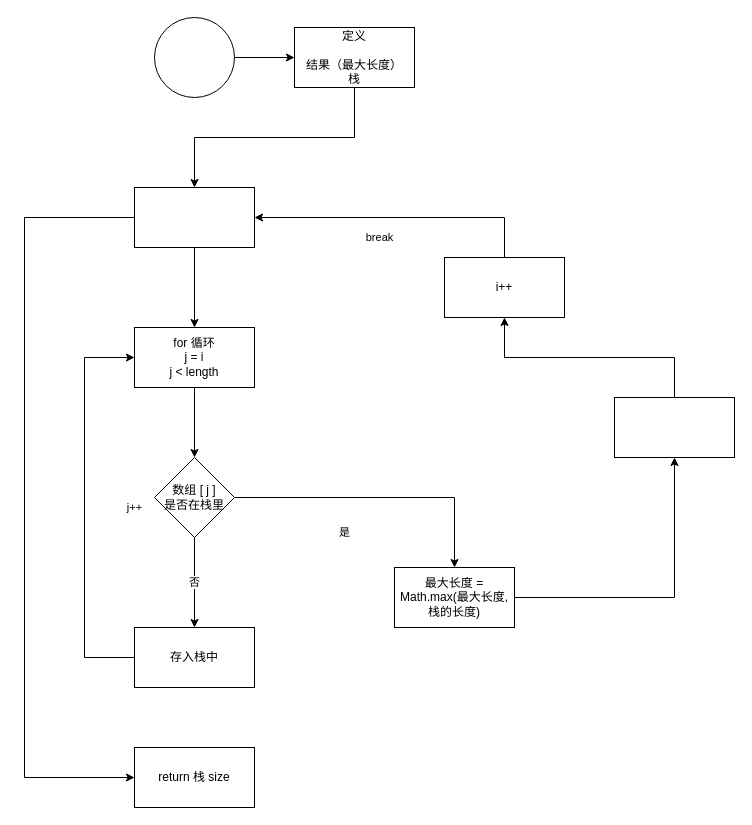
Some shapes in this 752 by 825 pixel diagram are drawn without their labels. The shapes that lost their labels are listed below. From the top down, each one's centre as x and y in pixels, then its label:
At (194,57): "开始".
At (194,217): "for 循环 i = 0 i < length".
At (674,427): "清空栈".
